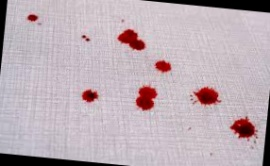blood: (116, 28, 148, 53), (230, 116, 259, 140), (135, 84, 157, 112), (195, 86, 222, 106), (80, 88, 99, 103), (153, 59, 172, 72), (26, 14, 39, 23), (80, 34, 91, 43)
